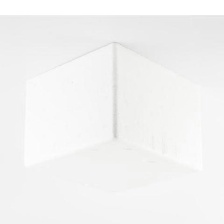foam_box: (18, 38, 206, 198)
